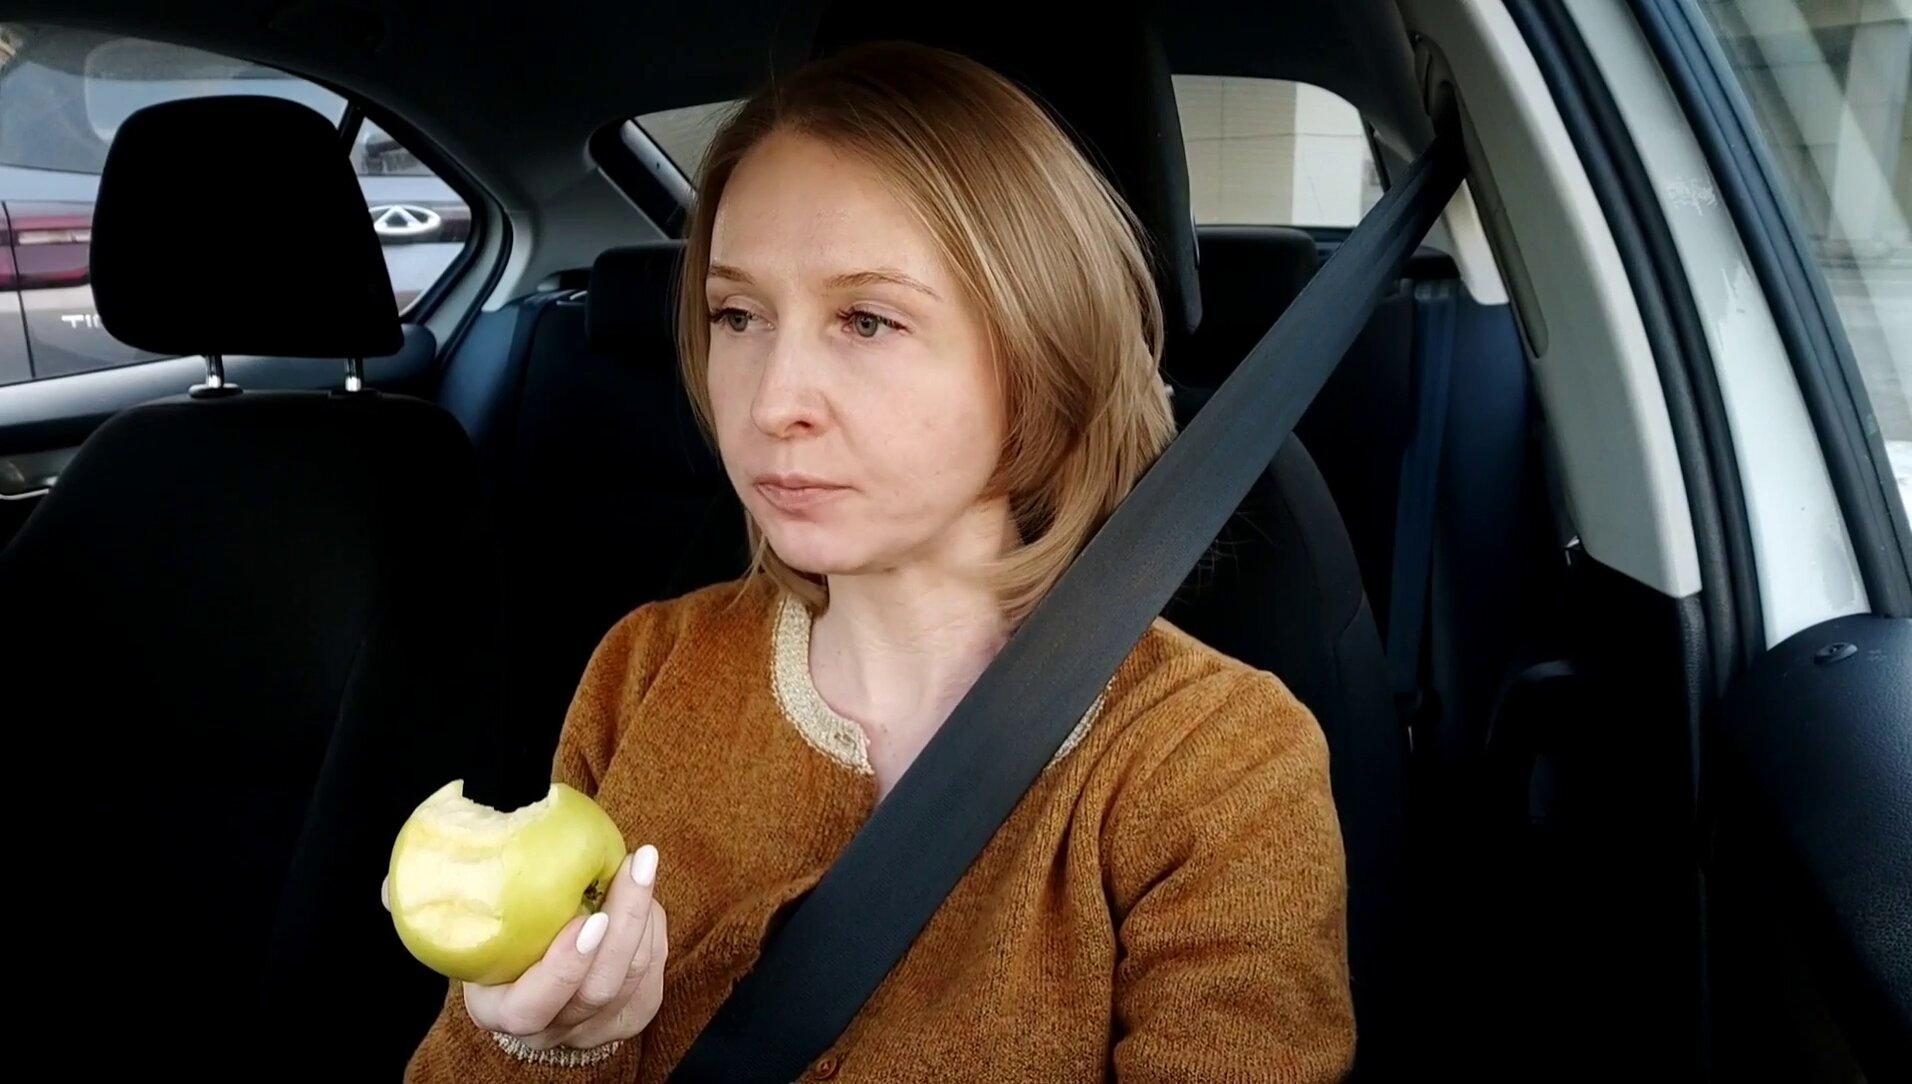Eating: (374, 763, 638, 993)
